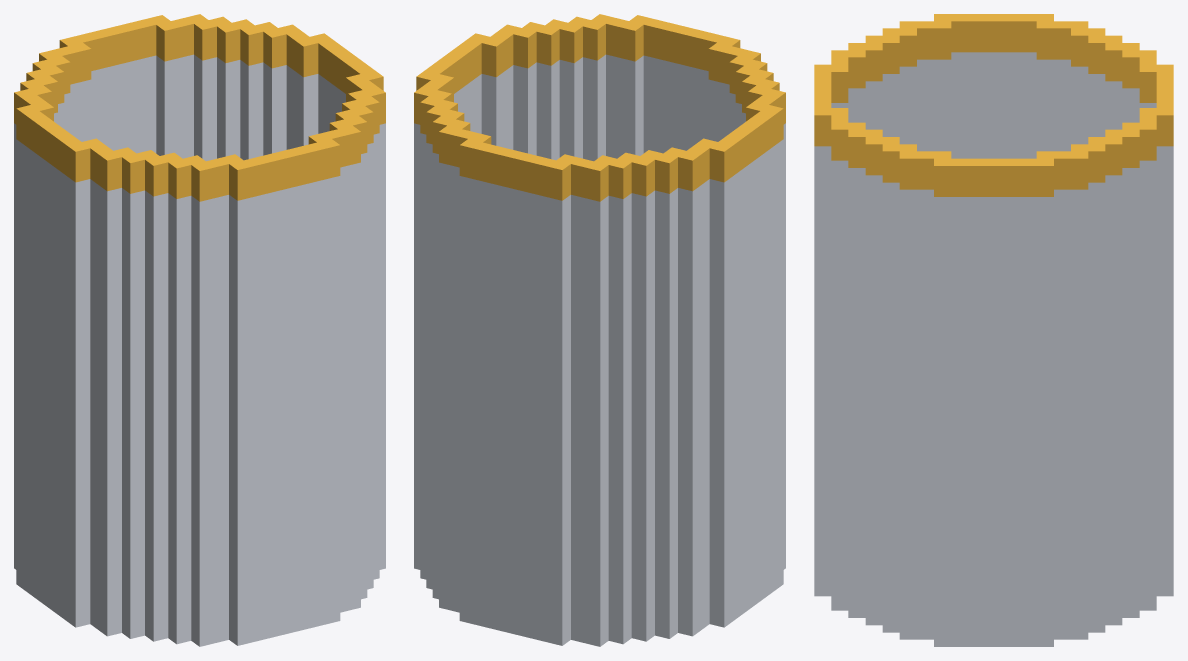
Rendered from Lake_IV_second_stage.glb.
3 views of the same model, side by side, from view 1: azimuth 30°, elevation 25°; view 2: azimuth 150°, elevation 25°; view 3: azimuth 270°, elevation 25° (orthographic).
Parts seen in each view (by area): view 1: ObjObject.017; view 2: ObjObject.017; view 3: ObjObject.017.
Part boxes in pixels (box(x1,y1,x2,y2)): ObjObject.017: box(14, 14, 385, 646); ObjObject.017: box(414, 14, 785, 646); ObjObject.017: box(814, 14, 1173, 646).
Bounding box in the file's own units: 2.1 × 3.1 × 2.1.
1 material, 1 textured.
